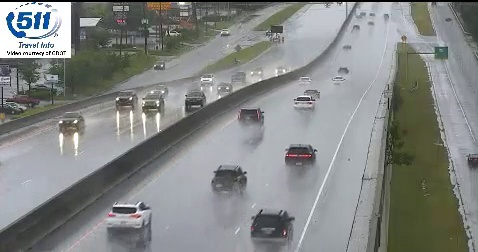car: (250, 210, 293, 241), (107, 202, 151, 228), (212, 165, 247, 191), (284, 144, 315, 167), (238, 108, 264, 126), (294, 96, 316, 110)
